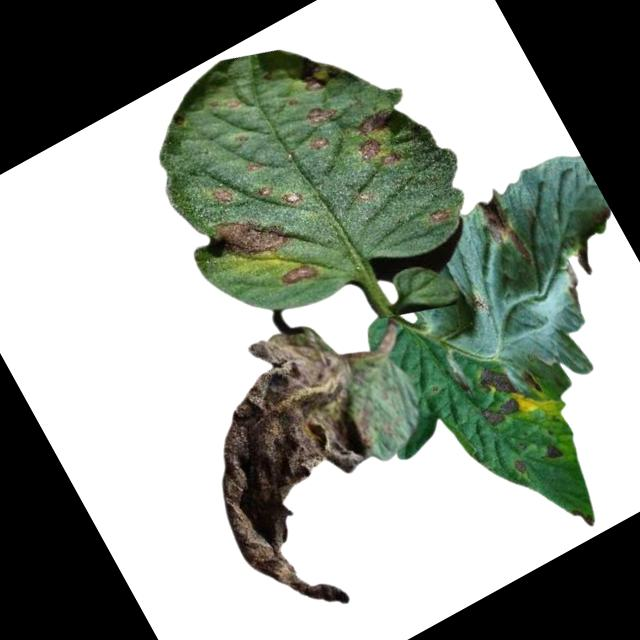Early_blight: (152, 307, 458, 640), (208, 202, 289, 276), (469, 190, 537, 277), (347, 108, 414, 180), (550, 254, 597, 315), (475, 355, 520, 403), (475, 392, 524, 432), (277, 258, 322, 295), (299, 100, 337, 134), (297, 69, 325, 97), (303, 131, 332, 158), (279, 186, 305, 211), (425, 202, 451, 226), (507, 455, 531, 479), (208, 185, 232, 209), (542, 441, 565, 466), (254, 182, 274, 200), (244, 162, 260, 178)
